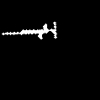double_crochet: (3, 22, 56, 38)
